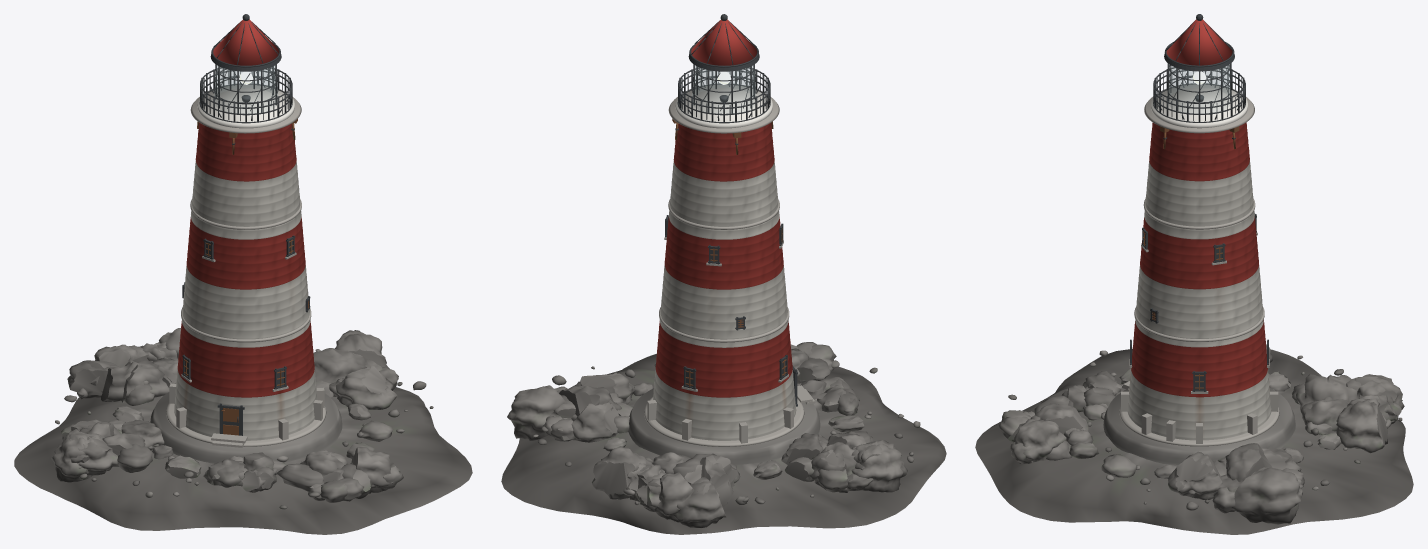
Rendered from lighthouse-v2.glb.
The picture shows the model from 3 angles, left to right: view 1: azimuth 30°, elevation 25°; view 2: azimuth 150°, elevation 25°; view 3: azimuth 270°, elevation 25°; orthographic projection.
Visible parts, largest first — view 1: LH_Tower, T_RockShelf, T_RockClusters, LH_MetalDetail, LH_TrimDetail, LH_Base, LH_Gallery, LH_Roof, LH_LanternGlass, T_Pebbles, LH_RustDetail; view 2: LH_Tower, T_RockClusters, T_RockShelf, LH_MetalDetail, LH_TrimDetail, LH_Base, LH_Gallery, LH_Roof, LH_LanternGlass, T_Pebbles; view 3: LH_Tower, T_RockShelf, T_RockClusters, LH_TrimDetail, LH_MetalDetail, LH_Base, LH_Gallery, LH_Roof, LH_LanternGlass, T_Pebbles.
Part boxes in pixels (x1=…): LH_Tower: x1=174, y1=122, x2=317, y2=440; T_RockShelf: x1=14, y1=387, x2=472, y2=534; T_RockClusters: x1=51, y1=328, x2=403, y2=502; LH_MetalDetail: x1=182, y1=21, x2=310, y2=435; LH_TrimDetail: x1=166, y1=97, x2=326, y2=447; LH_Base: x1=150, y1=392, x2=342, y2=463; LH_Gallery: x1=197, y1=84, x2=294, y2=128; LH_Roof: x1=213, y1=19, x2=279, y2=65; LH_LanternGlass: x1=214, y1=65, x2=277, y2=113; T_Pebbles: x1=55, y1=349, x2=433, y2=509; LH_RustDetail: x1=183, y1=119, x2=309, y2=435; LH_Tower: x1=653, y1=123, x2=796, y2=440; T_RockClusters: x1=507, y1=342, x2=907, y2=528; T_RockShelf: x1=501, y1=353, x2=946, y2=534; LH_MetalDetail: x1=665, y1=20, x2=797, y2=406; LH_TrimDetail: x1=644, y1=97, x2=815, y2=446; LH_Base: x1=628, y1=388, x2=820, y2=465; LH_Gallery: x1=675, y1=84, x2=772, y2=128; LH_Roof: x1=691, y1=19, x2=757, y2=65; LH_LanternGlass: x1=692, y1=65, x2=755, y2=113; T_Pebbles: x1=533, y1=360, x2=920, y2=504; LH_Tower: x1=1127, y1=122, x2=1271, y2=440; T_RockShelf: x1=975, y1=349, x2=1413, y2=534; T_RockClusters: x1=998, y1=344, x2=1404, y2=524; LH_TrimDetail: x1=1119, y1=96, x2=1279, y2=446; LH_MetalDetail: x1=1130, y1=21, x2=1268, y2=391; LH_Base: x1=1103, y1=388, x2=1295, y2=464; LH_Gallery: x1=1151, y1=84, x2=1247, y2=128; LH_Roof: x1=1166, y1=19, x2=1232, y2=65; LH_LanternGlass: x1=1168, y1=65, x2=1230, y2=112; T_Pebbles: x1=1008, y1=350, x2=1402, y2=510.
Bounding box in the file's own units: 18.85 × 20.88 × 18.84.
